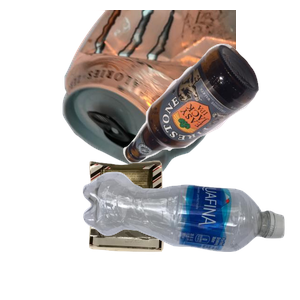glass: (120, 41, 300, 196)
metal: (60, 10, 300, 175)
plastic: (80, 169, 300, 300)
trash: (86, 158, 242, 300)
